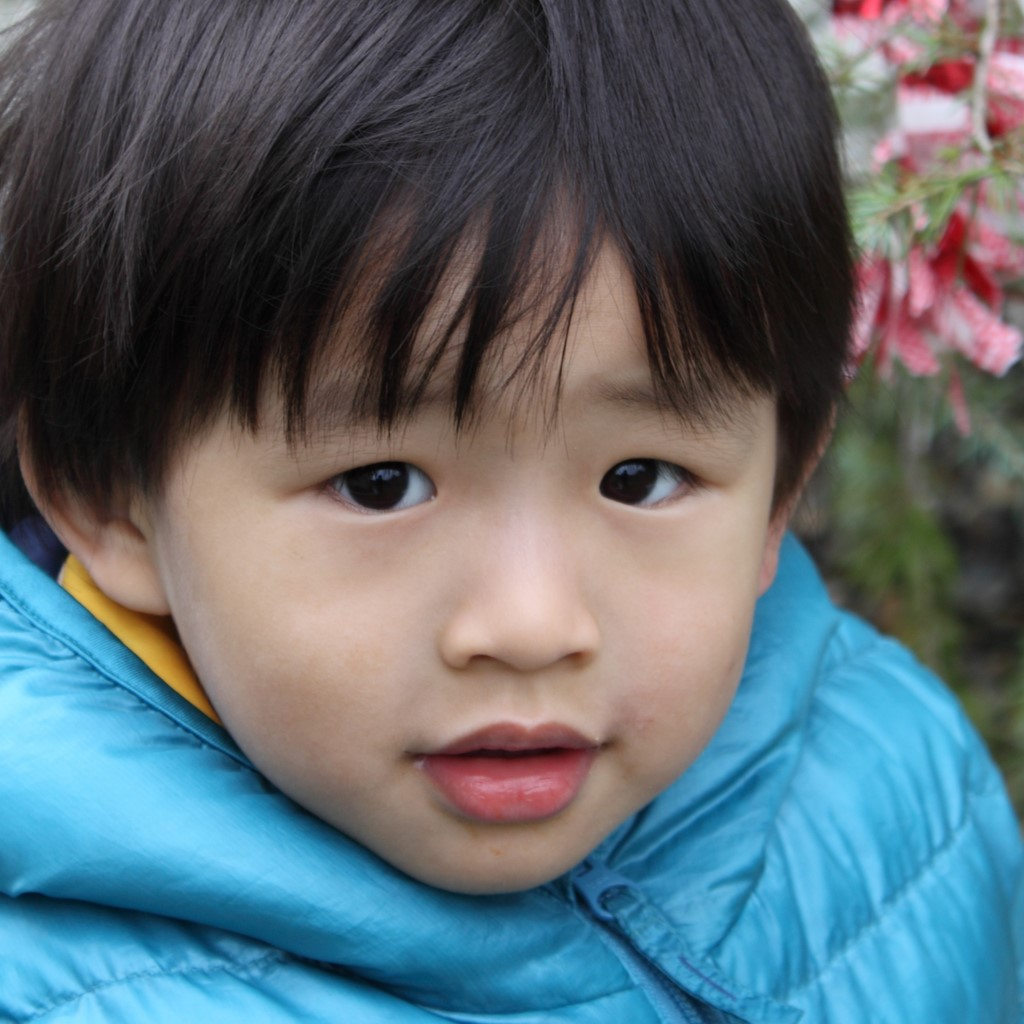sin_mascara: (176, 154, 774, 879)
